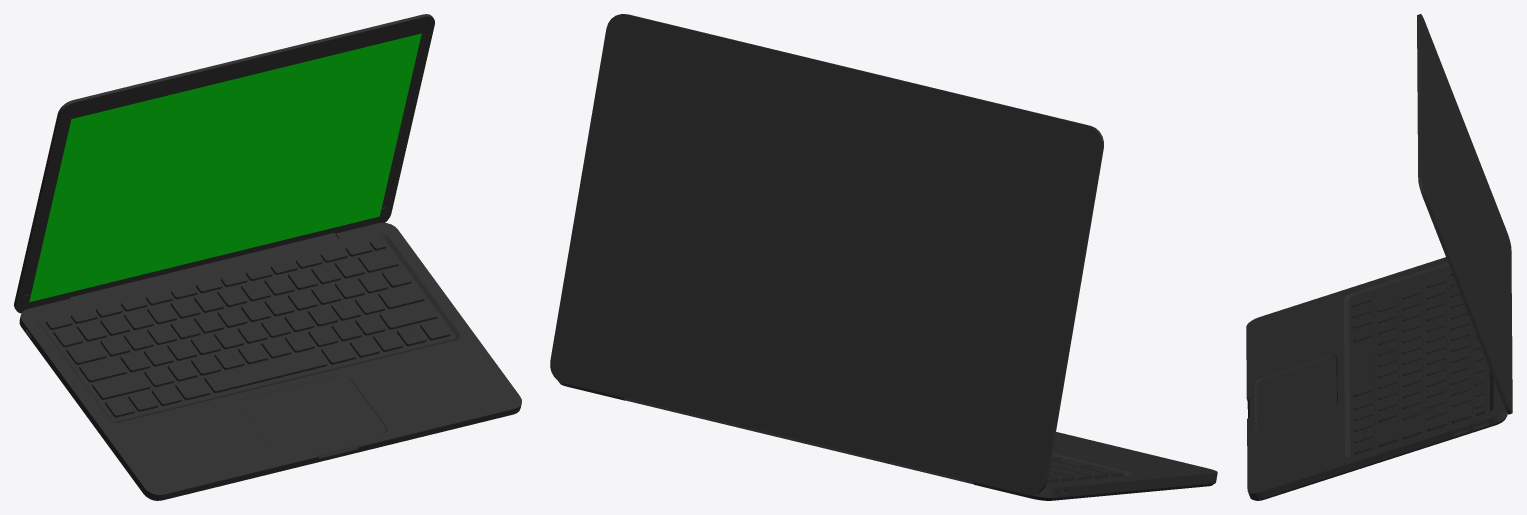
Rendered from laptop.gltf.
3 views of the same model, side by side, from view 1: azimuth 30°, elevation 25°; view 2: azimuth 150°, elevation 25°; view 3: azimuth 270°, elevation 25° (orthographic). The views are drawn at different scales.
Visible parts, largest first — view 1: Laptop, Scherm; view 2: Laptop; view 3: Laptop.
Boxes of the visible parts, x1=… form: Laptop: x1=14, y1=14, x2=521, y2=500; Scherm: x1=29, y1=33, x2=421, y2=302; Laptop: x1=550, y1=14, x2=1217, y2=500; Laptop: x1=1246, y1=14, x2=1512, y2=500.
Bounding box in the file's own units: 5.77 × 4.92 × 3.71.
